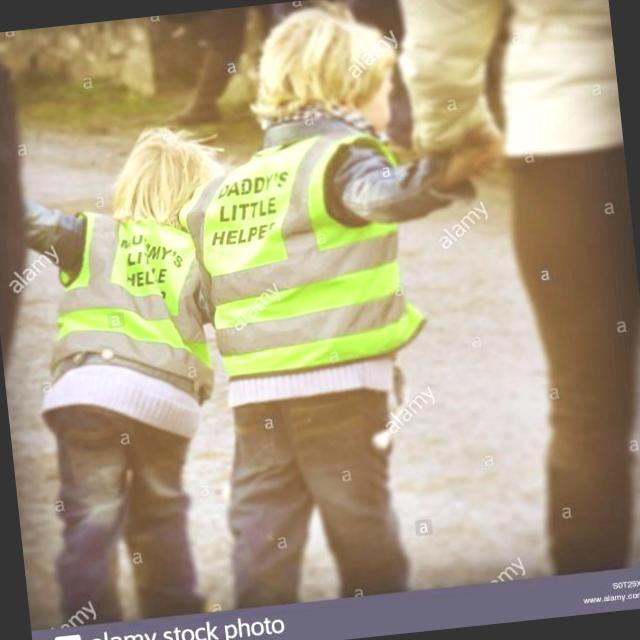vest: (200, 127, 398, 368), (59, 206, 209, 393)
